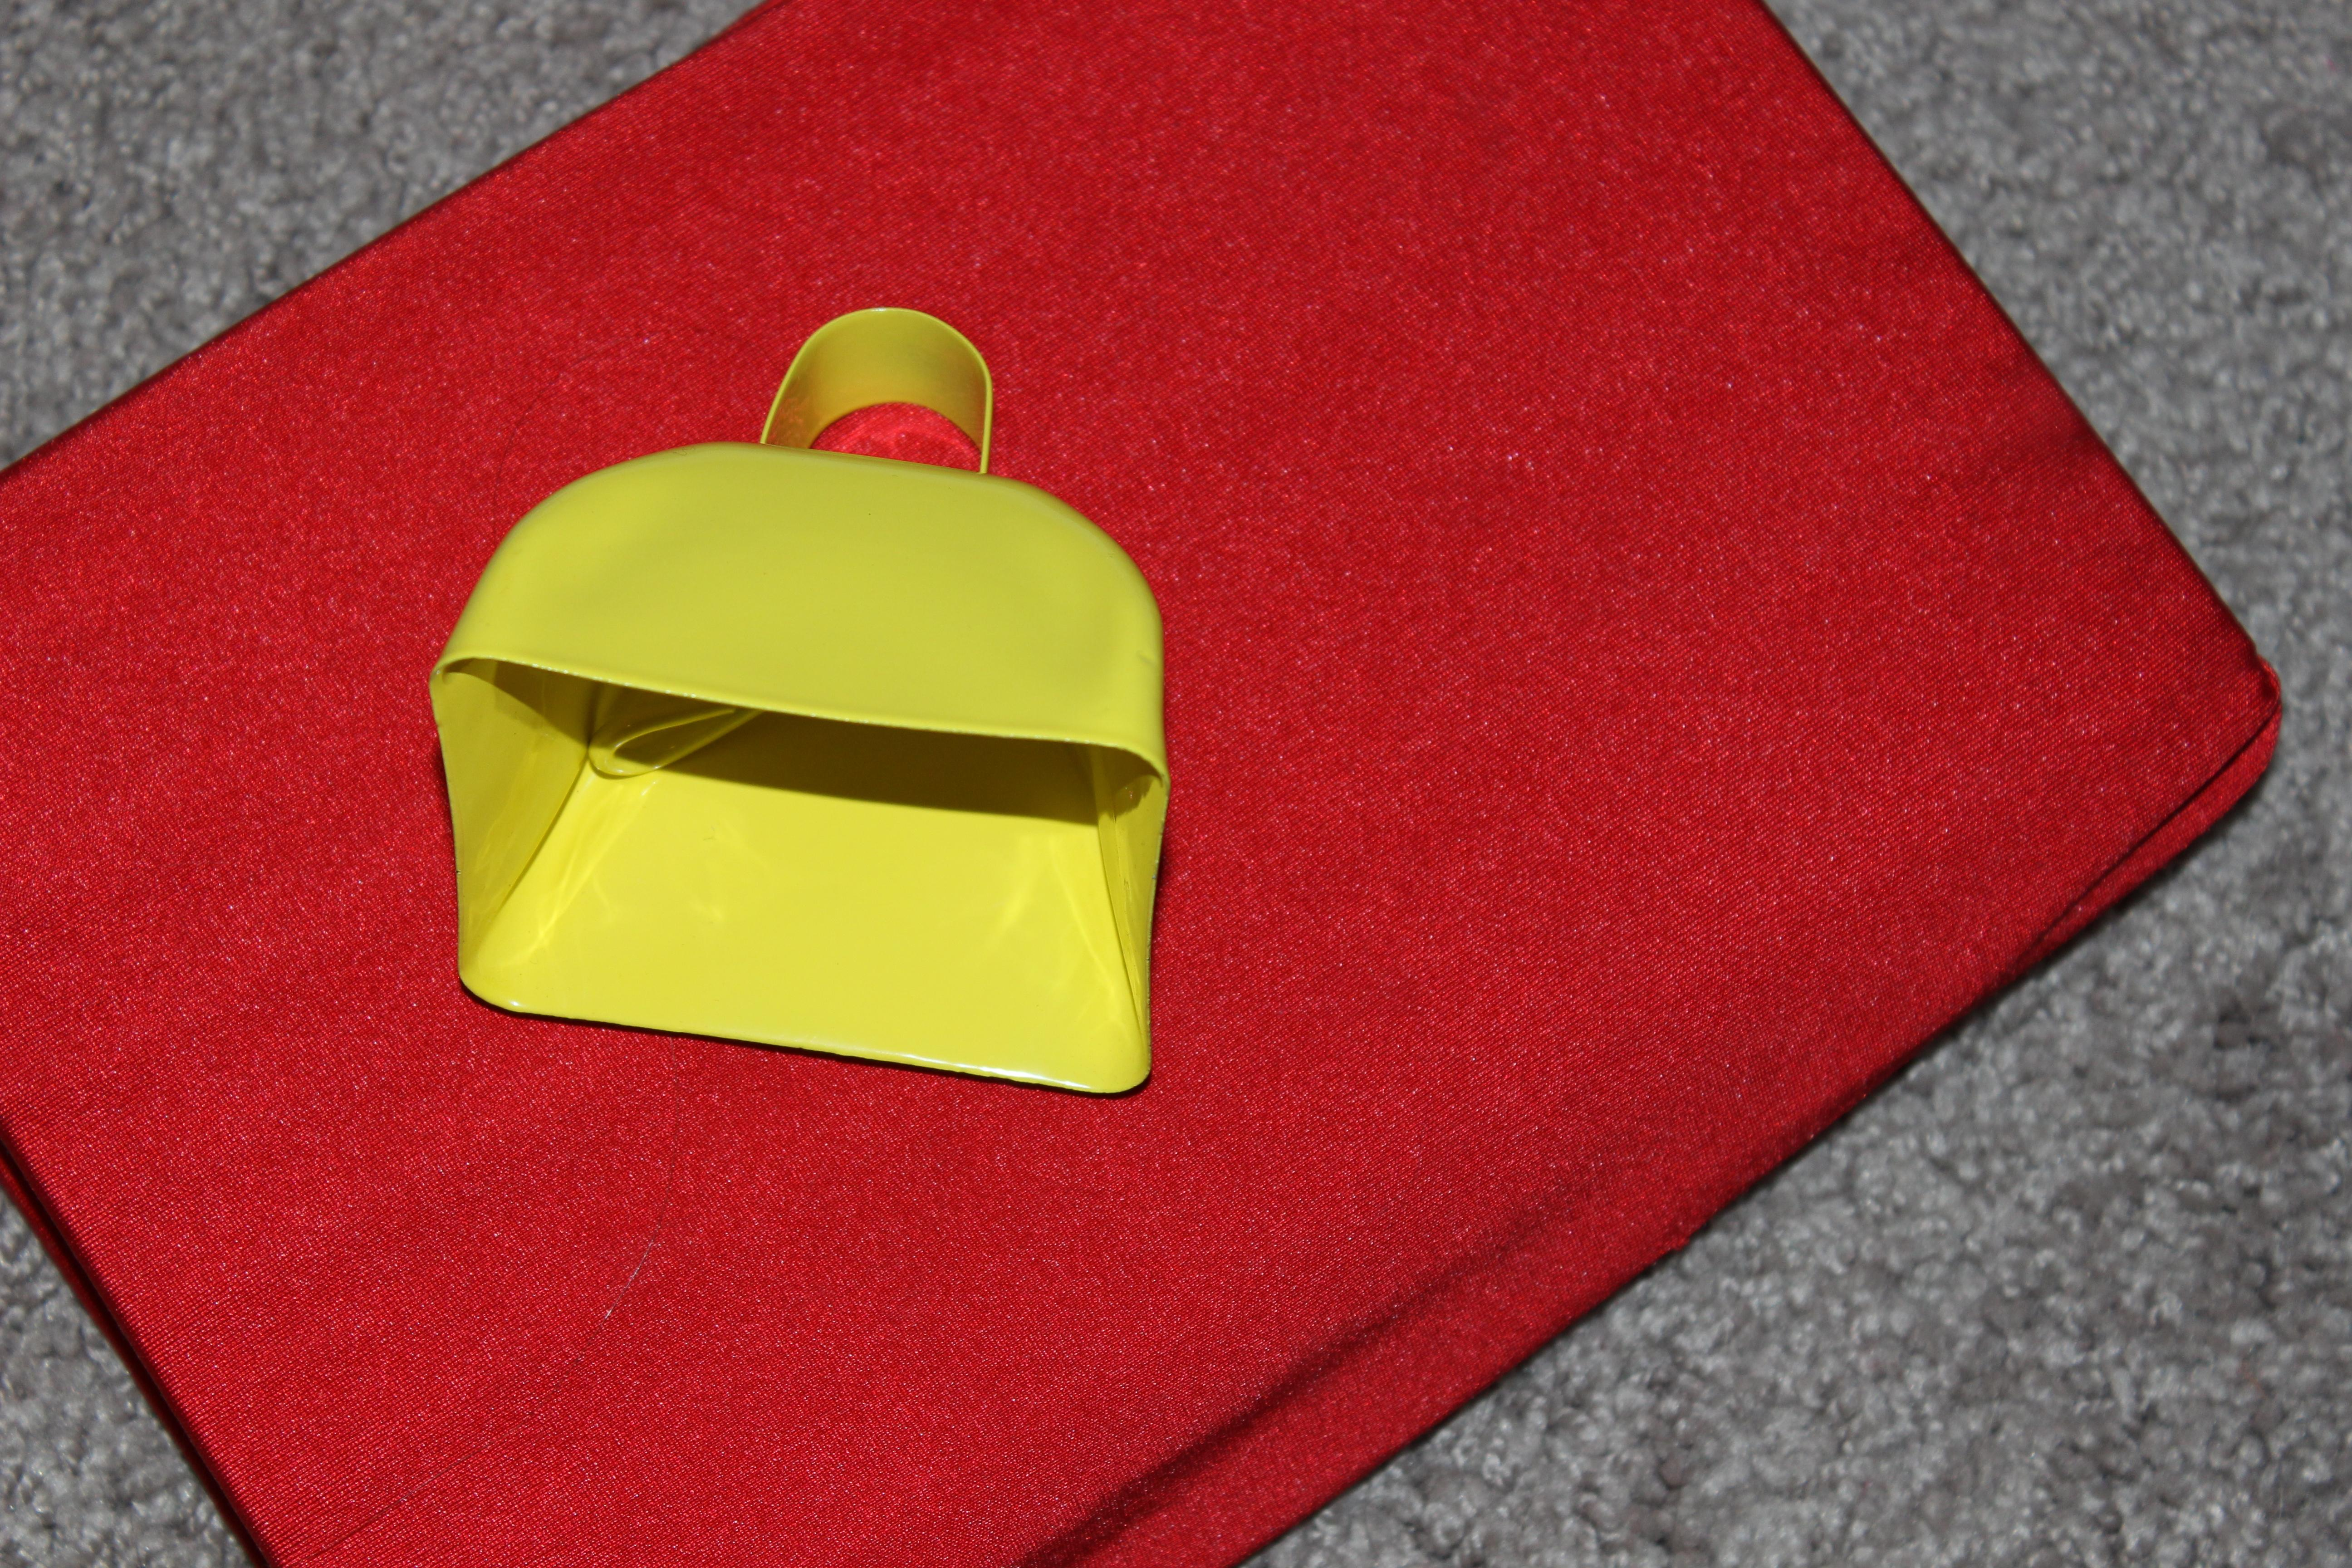cowbell: (394, 285, 1223, 1113)
